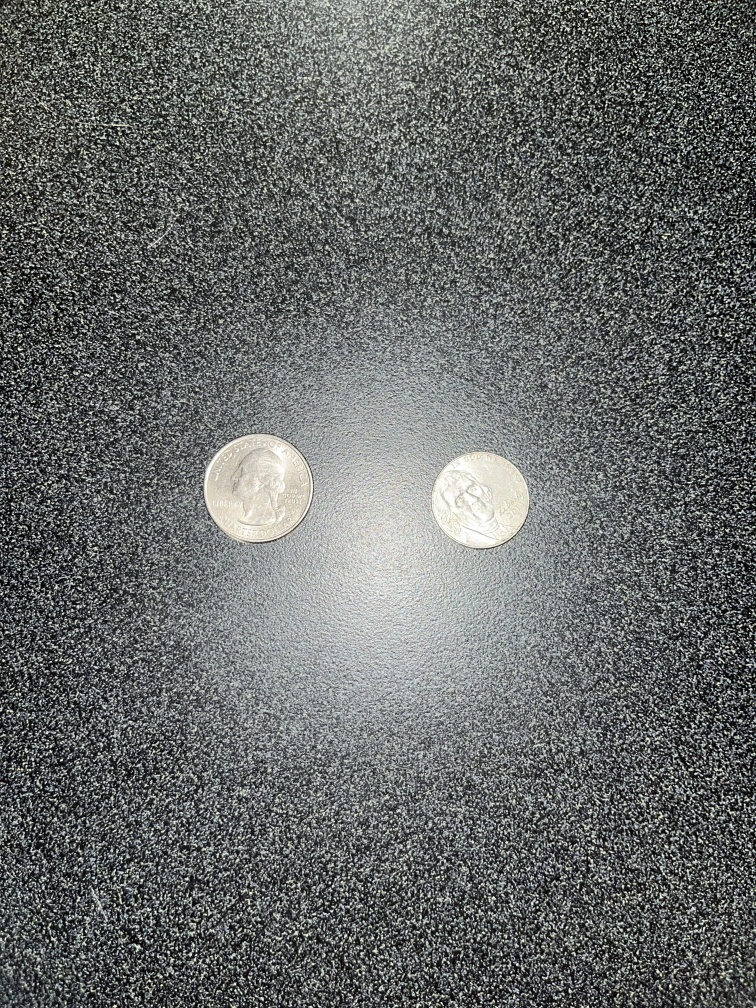nickel: (425, 449, 536, 554)
quarter: (196, 430, 321, 553)
